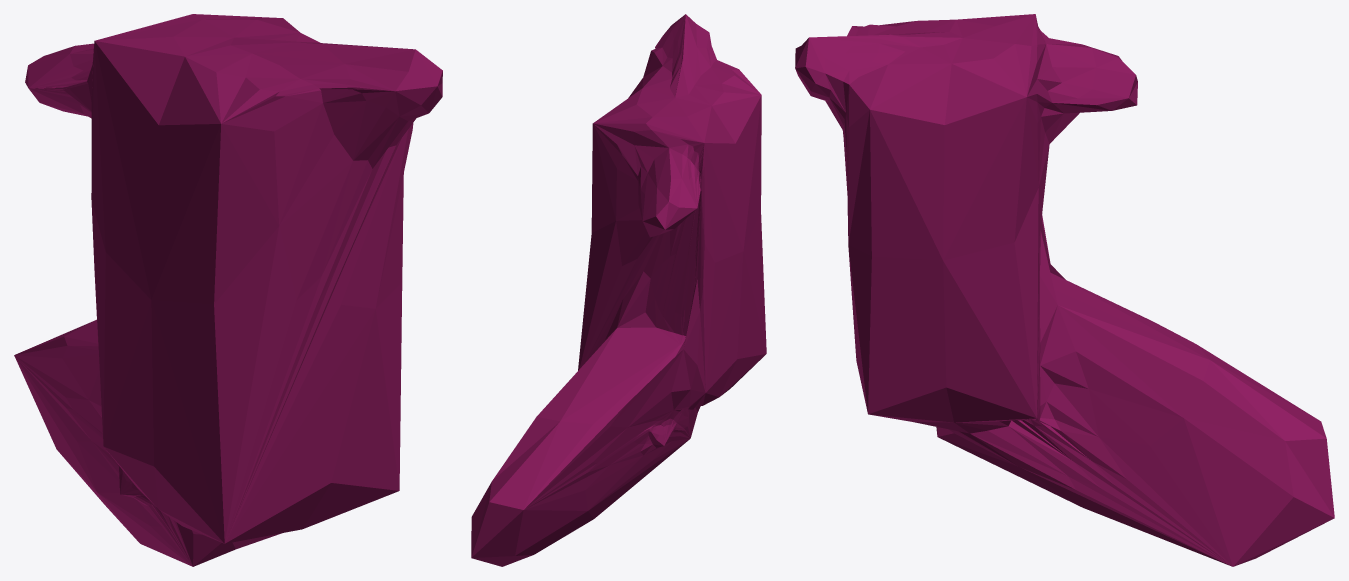
The picture shows the model from 3 angles, left to right: view 1: azimuth 30°, elevation 25°; view 2: azimuth 150°, elevation 25°; view 3: azimuth 270°, elevation 25°; orthographic projection. The views are drawn at different scales.
Parts seen in each view (by area): view 1: 596_Cube.2396; view 2: 596_Cube.2396; view 3: 596_Cube.2396.
Part boxes in pixels (box(x1,y1,x2,y2)): 596_Cube.2396: box(14, 14, 442, 566); 596_Cube.2396: box(471, 14, 766, 566); 596_Cube.2396: box(795, 14, 1334, 566).
Size of the model in its own units: 6.92 by 17.52 by 16.49.
